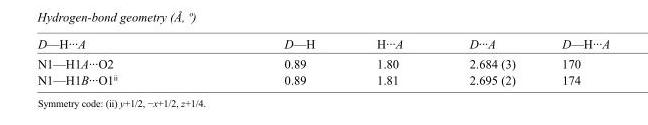table: (36, 36, 609, 86)
table column: (36, 36, 200, 86), (200, 36, 345, 86), (435, 36, 538, 86), (345, 36, 435, 86), (538, 36, 609, 86)
table row: (36, 53, 609, 71), (36, 36, 609, 53), (36, 71, 609, 86)
